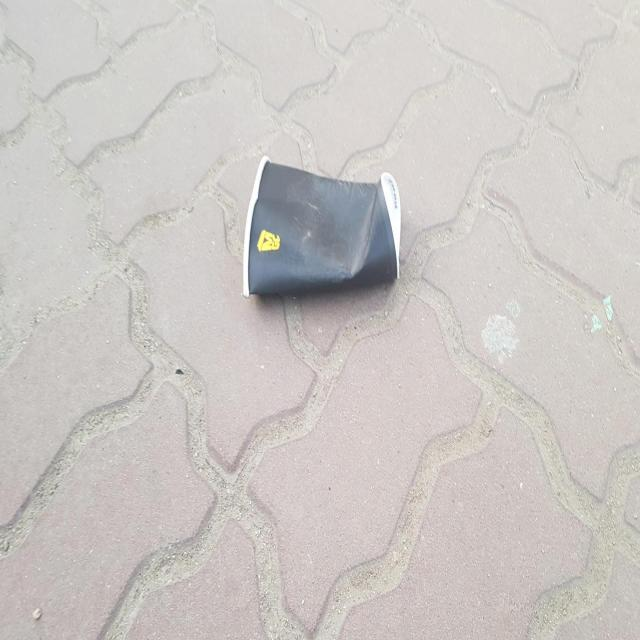paperpack: (243, 155, 401, 296)
